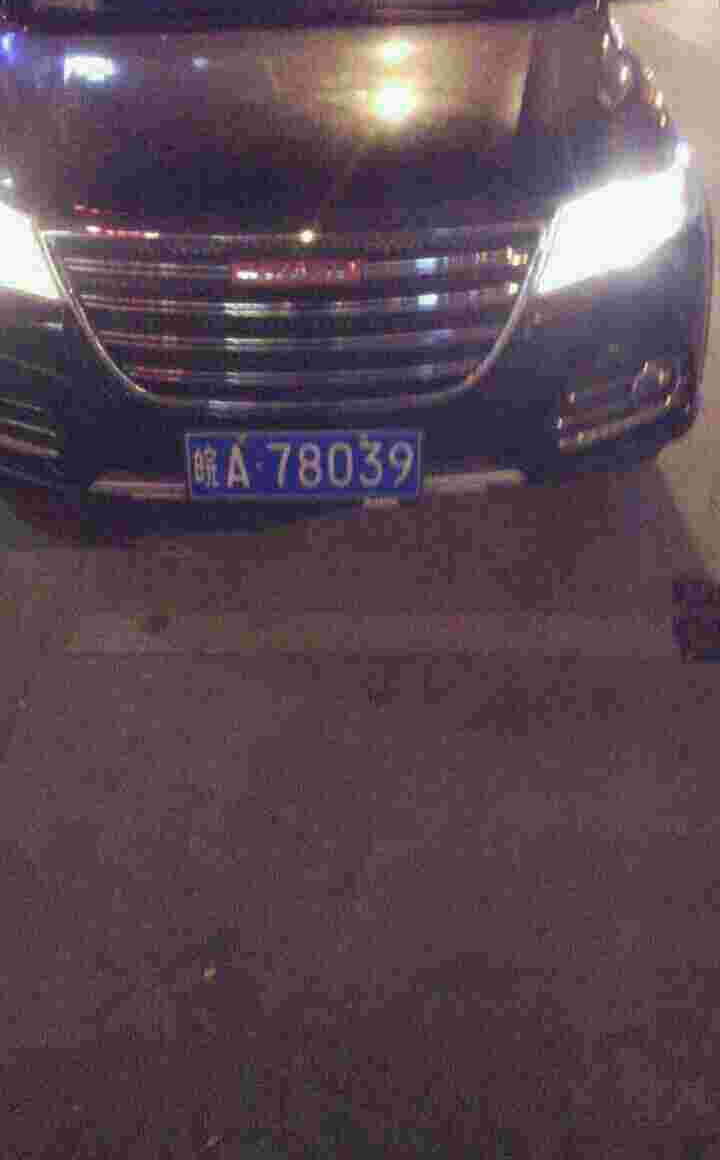plate: (187, 427, 428, 502)
